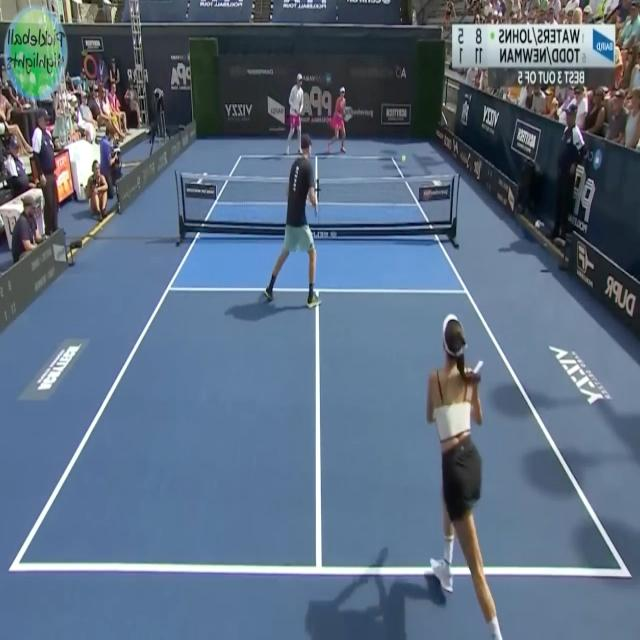Pickleball: (401, 152, 407, 165)
